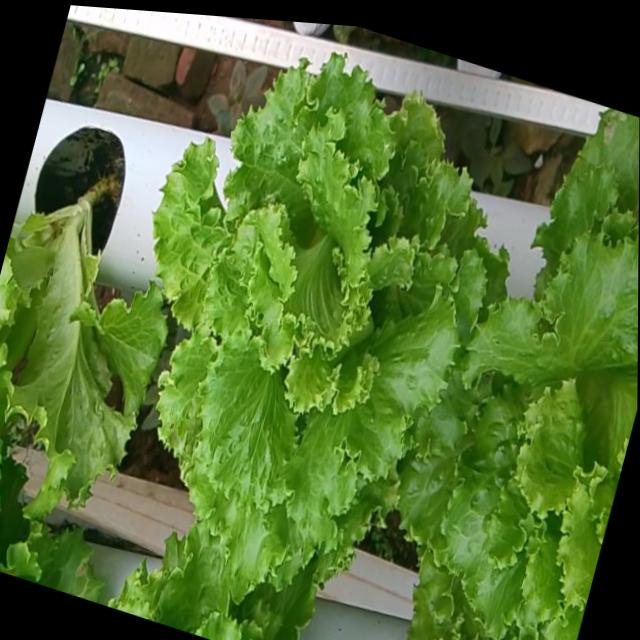Mature: (163, 44, 500, 579), (406, 211, 639, 630)
